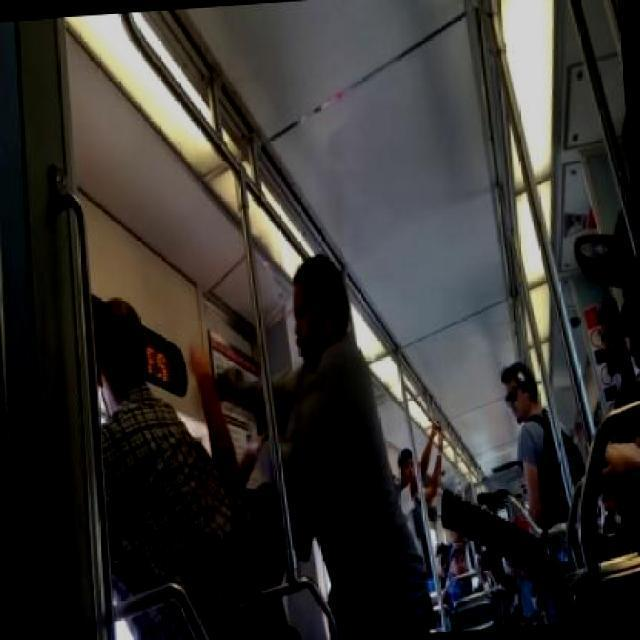fight: (89, 244, 431, 638)
non-fight: (496, 353, 590, 518)
